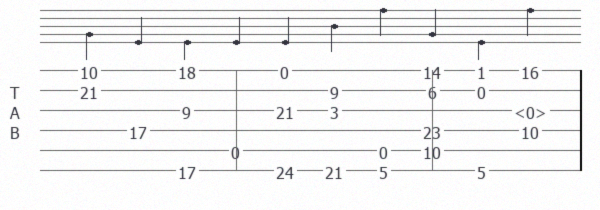0: (231, 142, 244, 158), (280, 62, 293, 78), (379, 142, 392, 158), (477, 82, 490, 98)
1: (477, 62, 490, 78)
10: (80, 62, 102, 78), (423, 142, 445, 158), (521, 122, 543, 138)
14: (423, 62, 445, 78)
16: (521, 62, 543, 78)
17: (129, 122, 151, 138), (178, 162, 200, 178)
18: (178, 62, 200, 78)
21: (80, 82, 102, 98), (276, 102, 298, 118), (325, 162, 347, 178)
23: (423, 122, 445, 138)
24: (276, 162, 298, 178)
3: (330, 102, 343, 118)
5: (379, 162, 392, 178), (477, 162, 490, 178)
6: (428, 82, 441, 98)
9: (182, 102, 195, 118), (330, 82, 343, 98)
harmonic: (514, 102, 551, 118)
